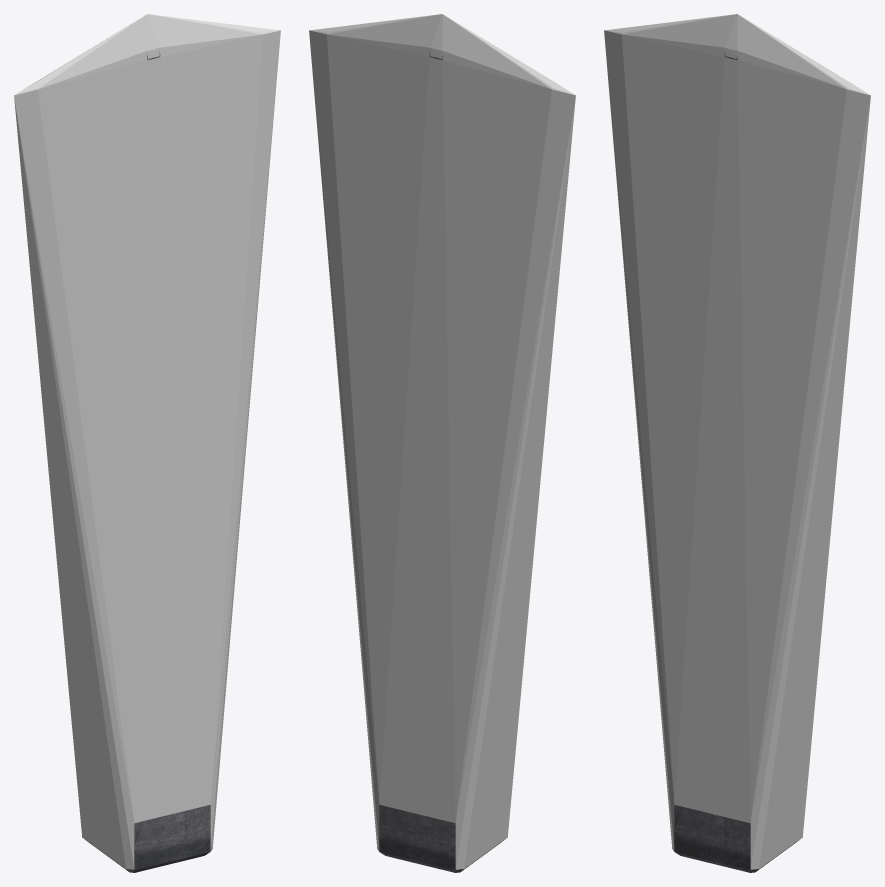
The model's file is banner_pole.low.webp.glb.
The picture shows the model from 3 angles, left to right: view 1: azimuth 30°, elevation 25°; view 2: azimuth 150°, elevation 25°; view 3: azimuth 330°, elevation 25°; orthographic projection.
Visible parts, largest first — view 1: COL, FRAC_1_l1; view 2: COL, FRAC_1_l1; view 3: COL, FRAC_1_l1.
Part boxes in pixels (x1,y1,x2,y2): COL: [14, 14, 280, 869]; FRAC_1_l1: [82, 805, 212, 872]; COL: [309, 14, 575, 869]; FRAC_1_l1: [377, 805, 507, 872]; COL: [604, 14, 870, 869]; FRAC_1_l1: [672, 805, 802, 872].
Bounding box in the file's own units: 1.54 × 4.6 × 0.5.
Materials: 1 (1 with a texture image).
